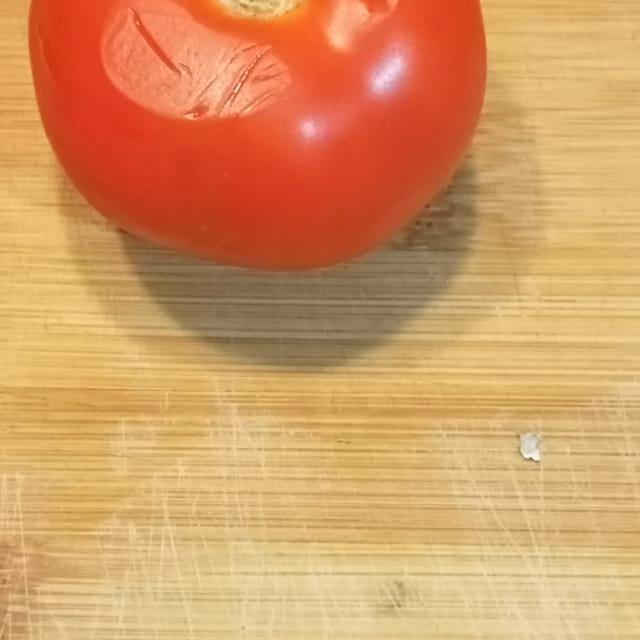tomato: (0, 0, 561, 299)
